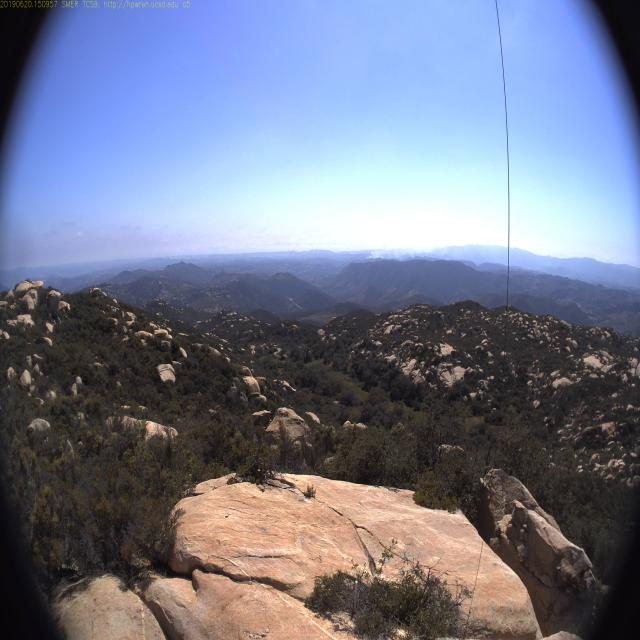smoke: (364, 234, 458, 264)
